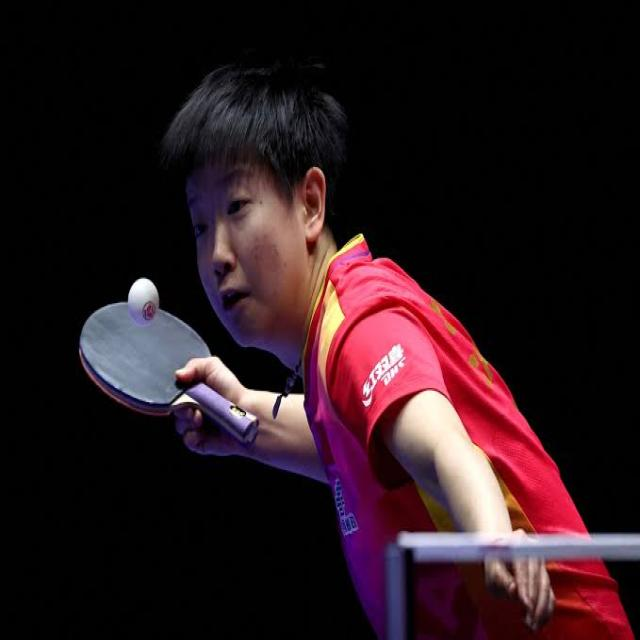TT Net: (371, 525, 639, 639)
TT Racket: (63, 250, 224, 433)
